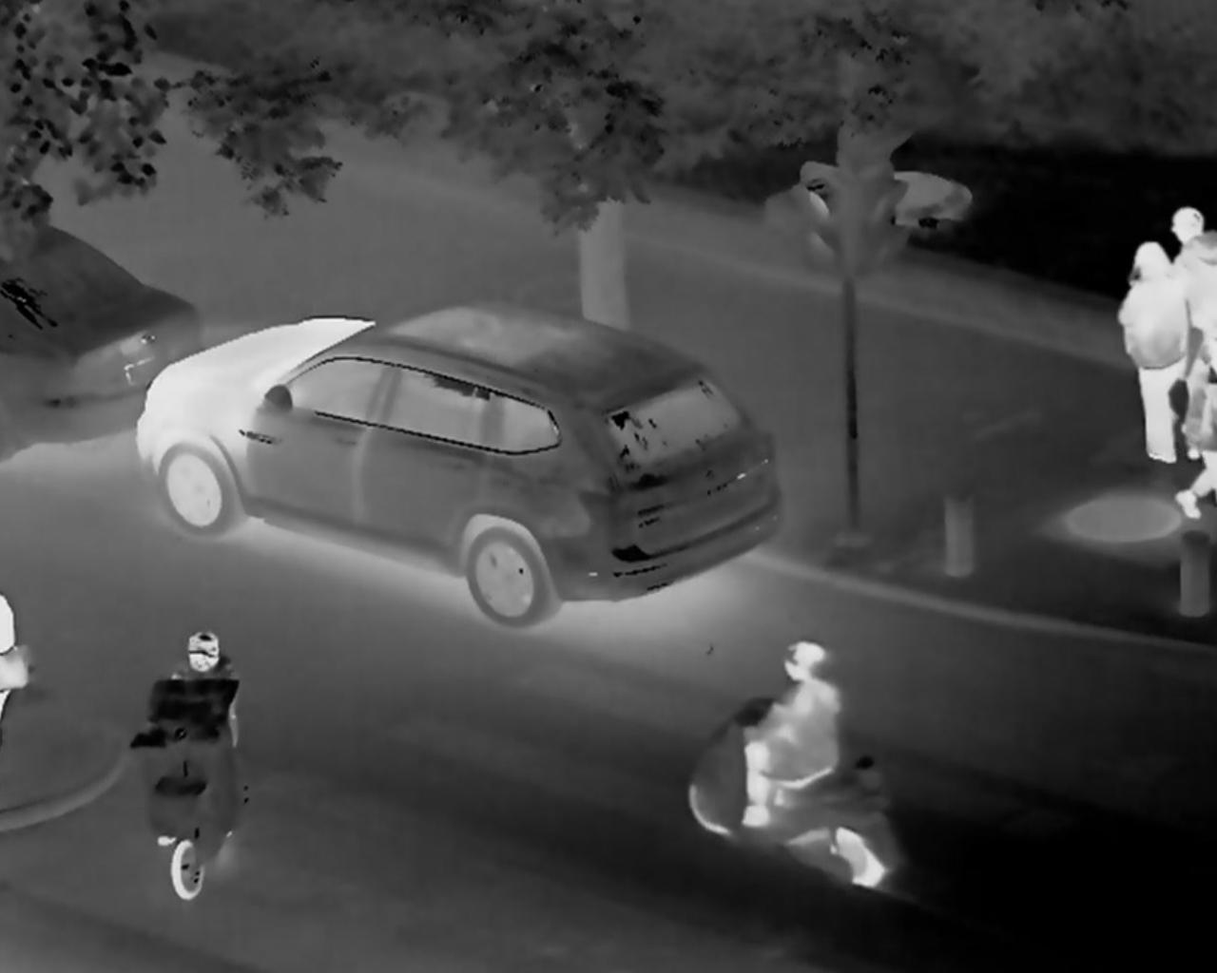person: (732, 640, 842, 847), (1101, 233, 1184, 464), (1174, 191, 1217, 299), (167, 619, 243, 674)
